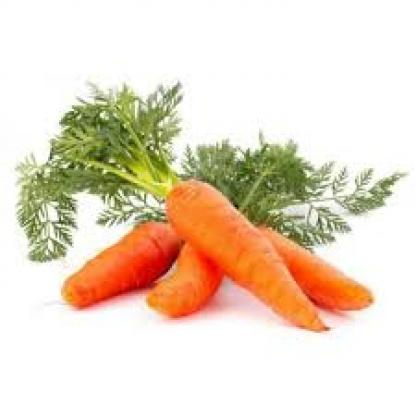Disposable tableware: (7, 9, 416, 361)
